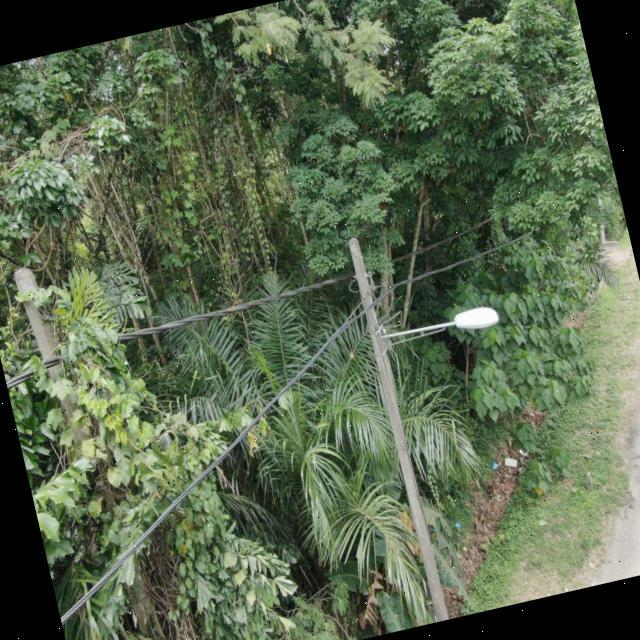critical vegetation: (4, 257, 205, 640)
